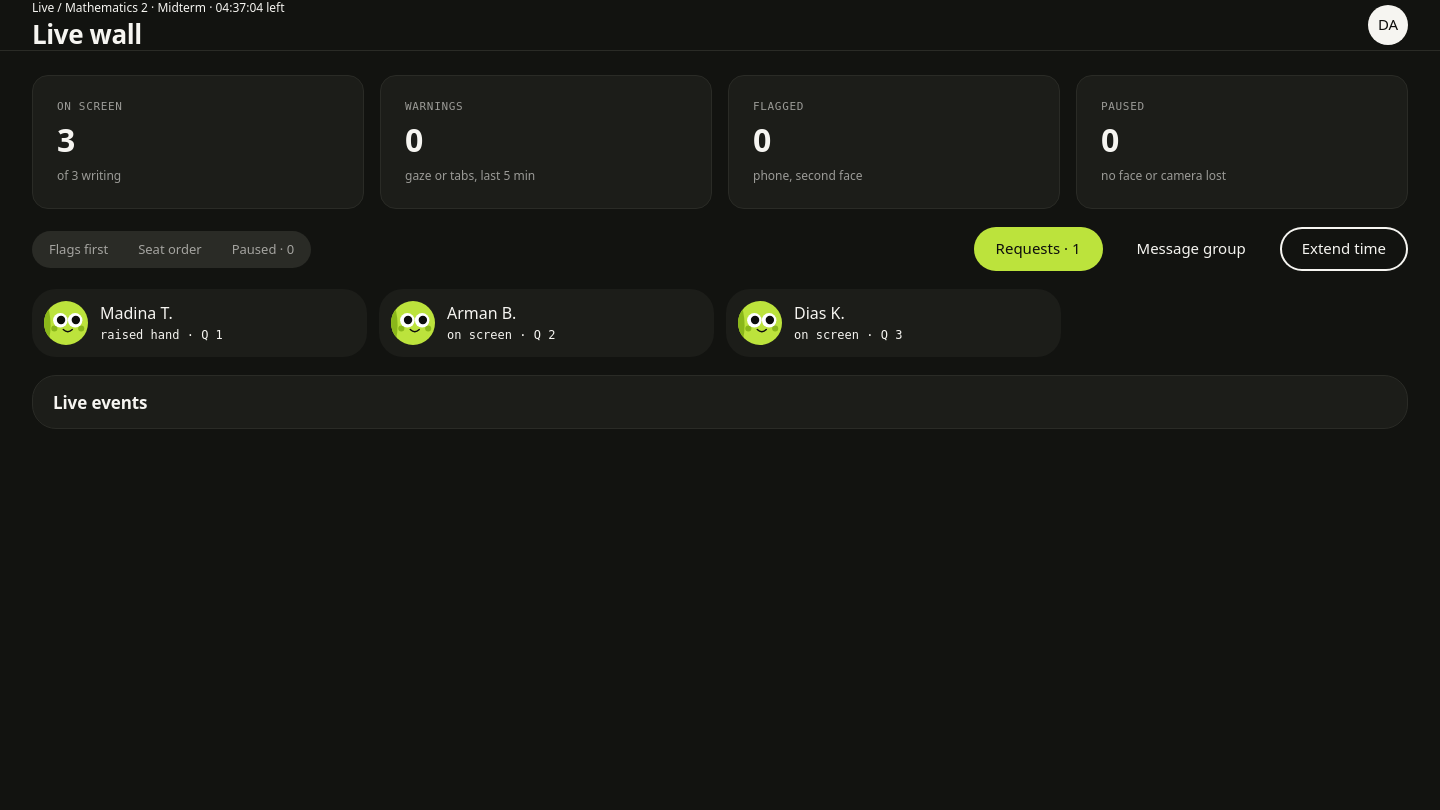
Test case: 2.4d Ask proctor requests › shows the exam office the requests without Reply and Mark done
The image size is (1440, 810).
Click the button "Requests · 1" at (1038,249), box 974,227 -> 1102,271
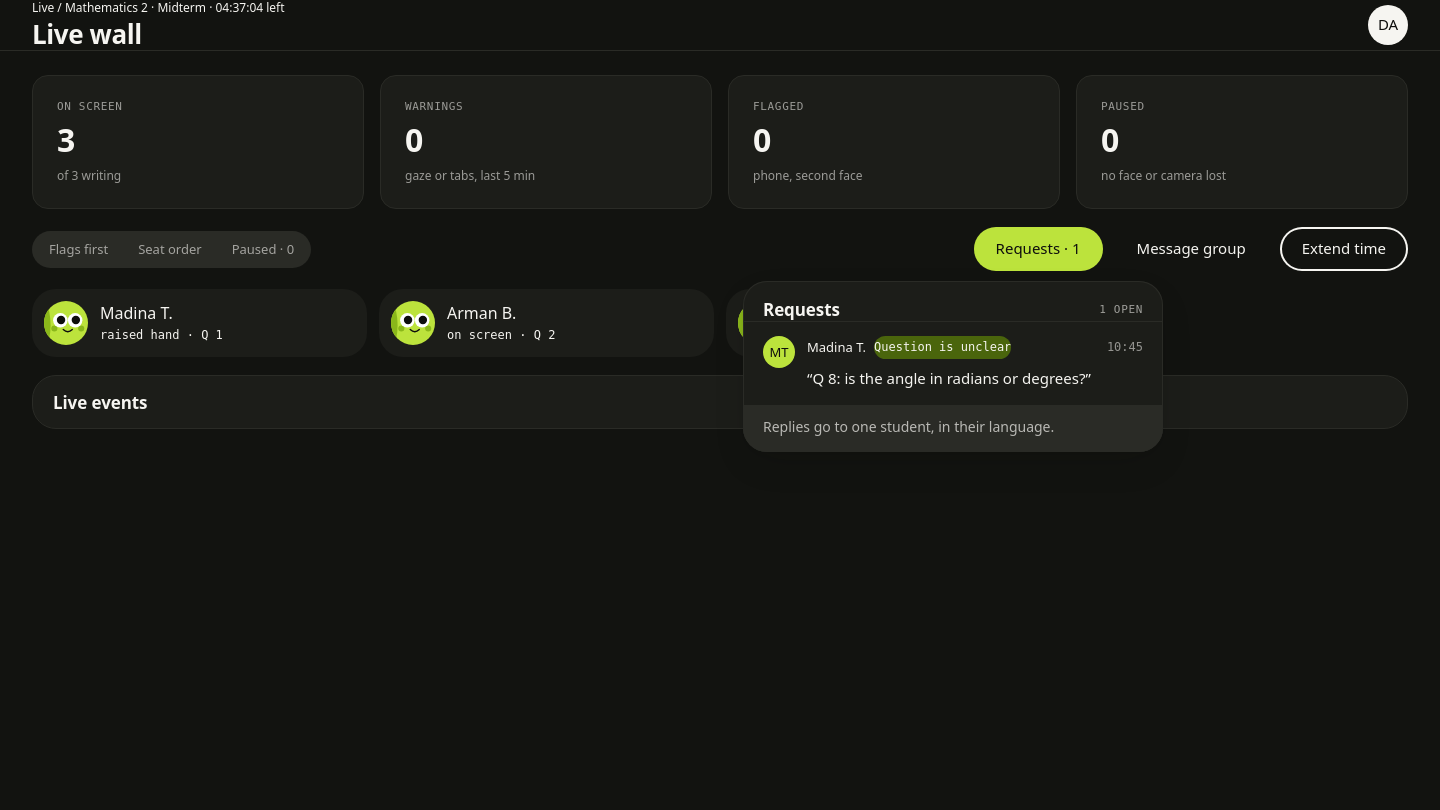
Expected: the text "Madina T." next to "Question is unclear" is shown, 807,338 -> 866,356
